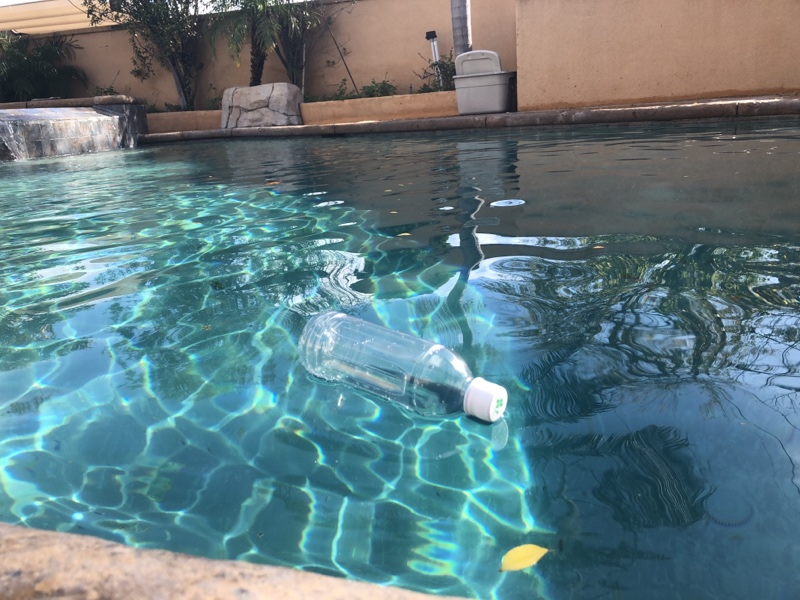Plastic Bottle: (296, 308, 510, 429)
